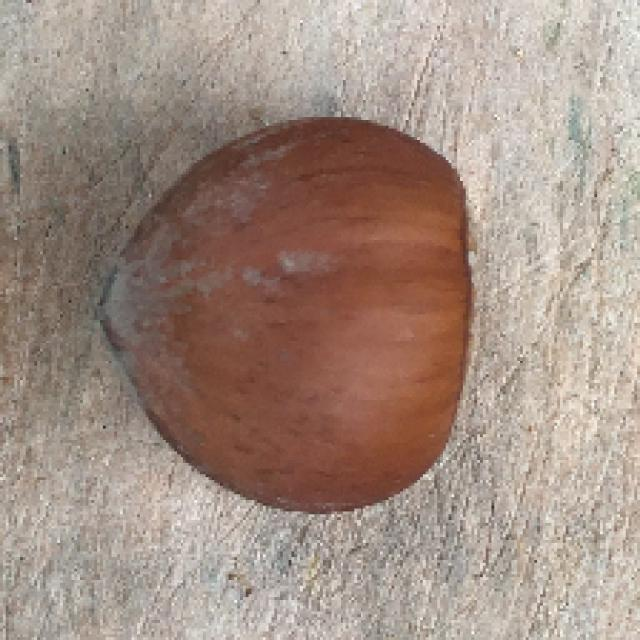qualityHazelnut: (92, 104, 486, 527)
